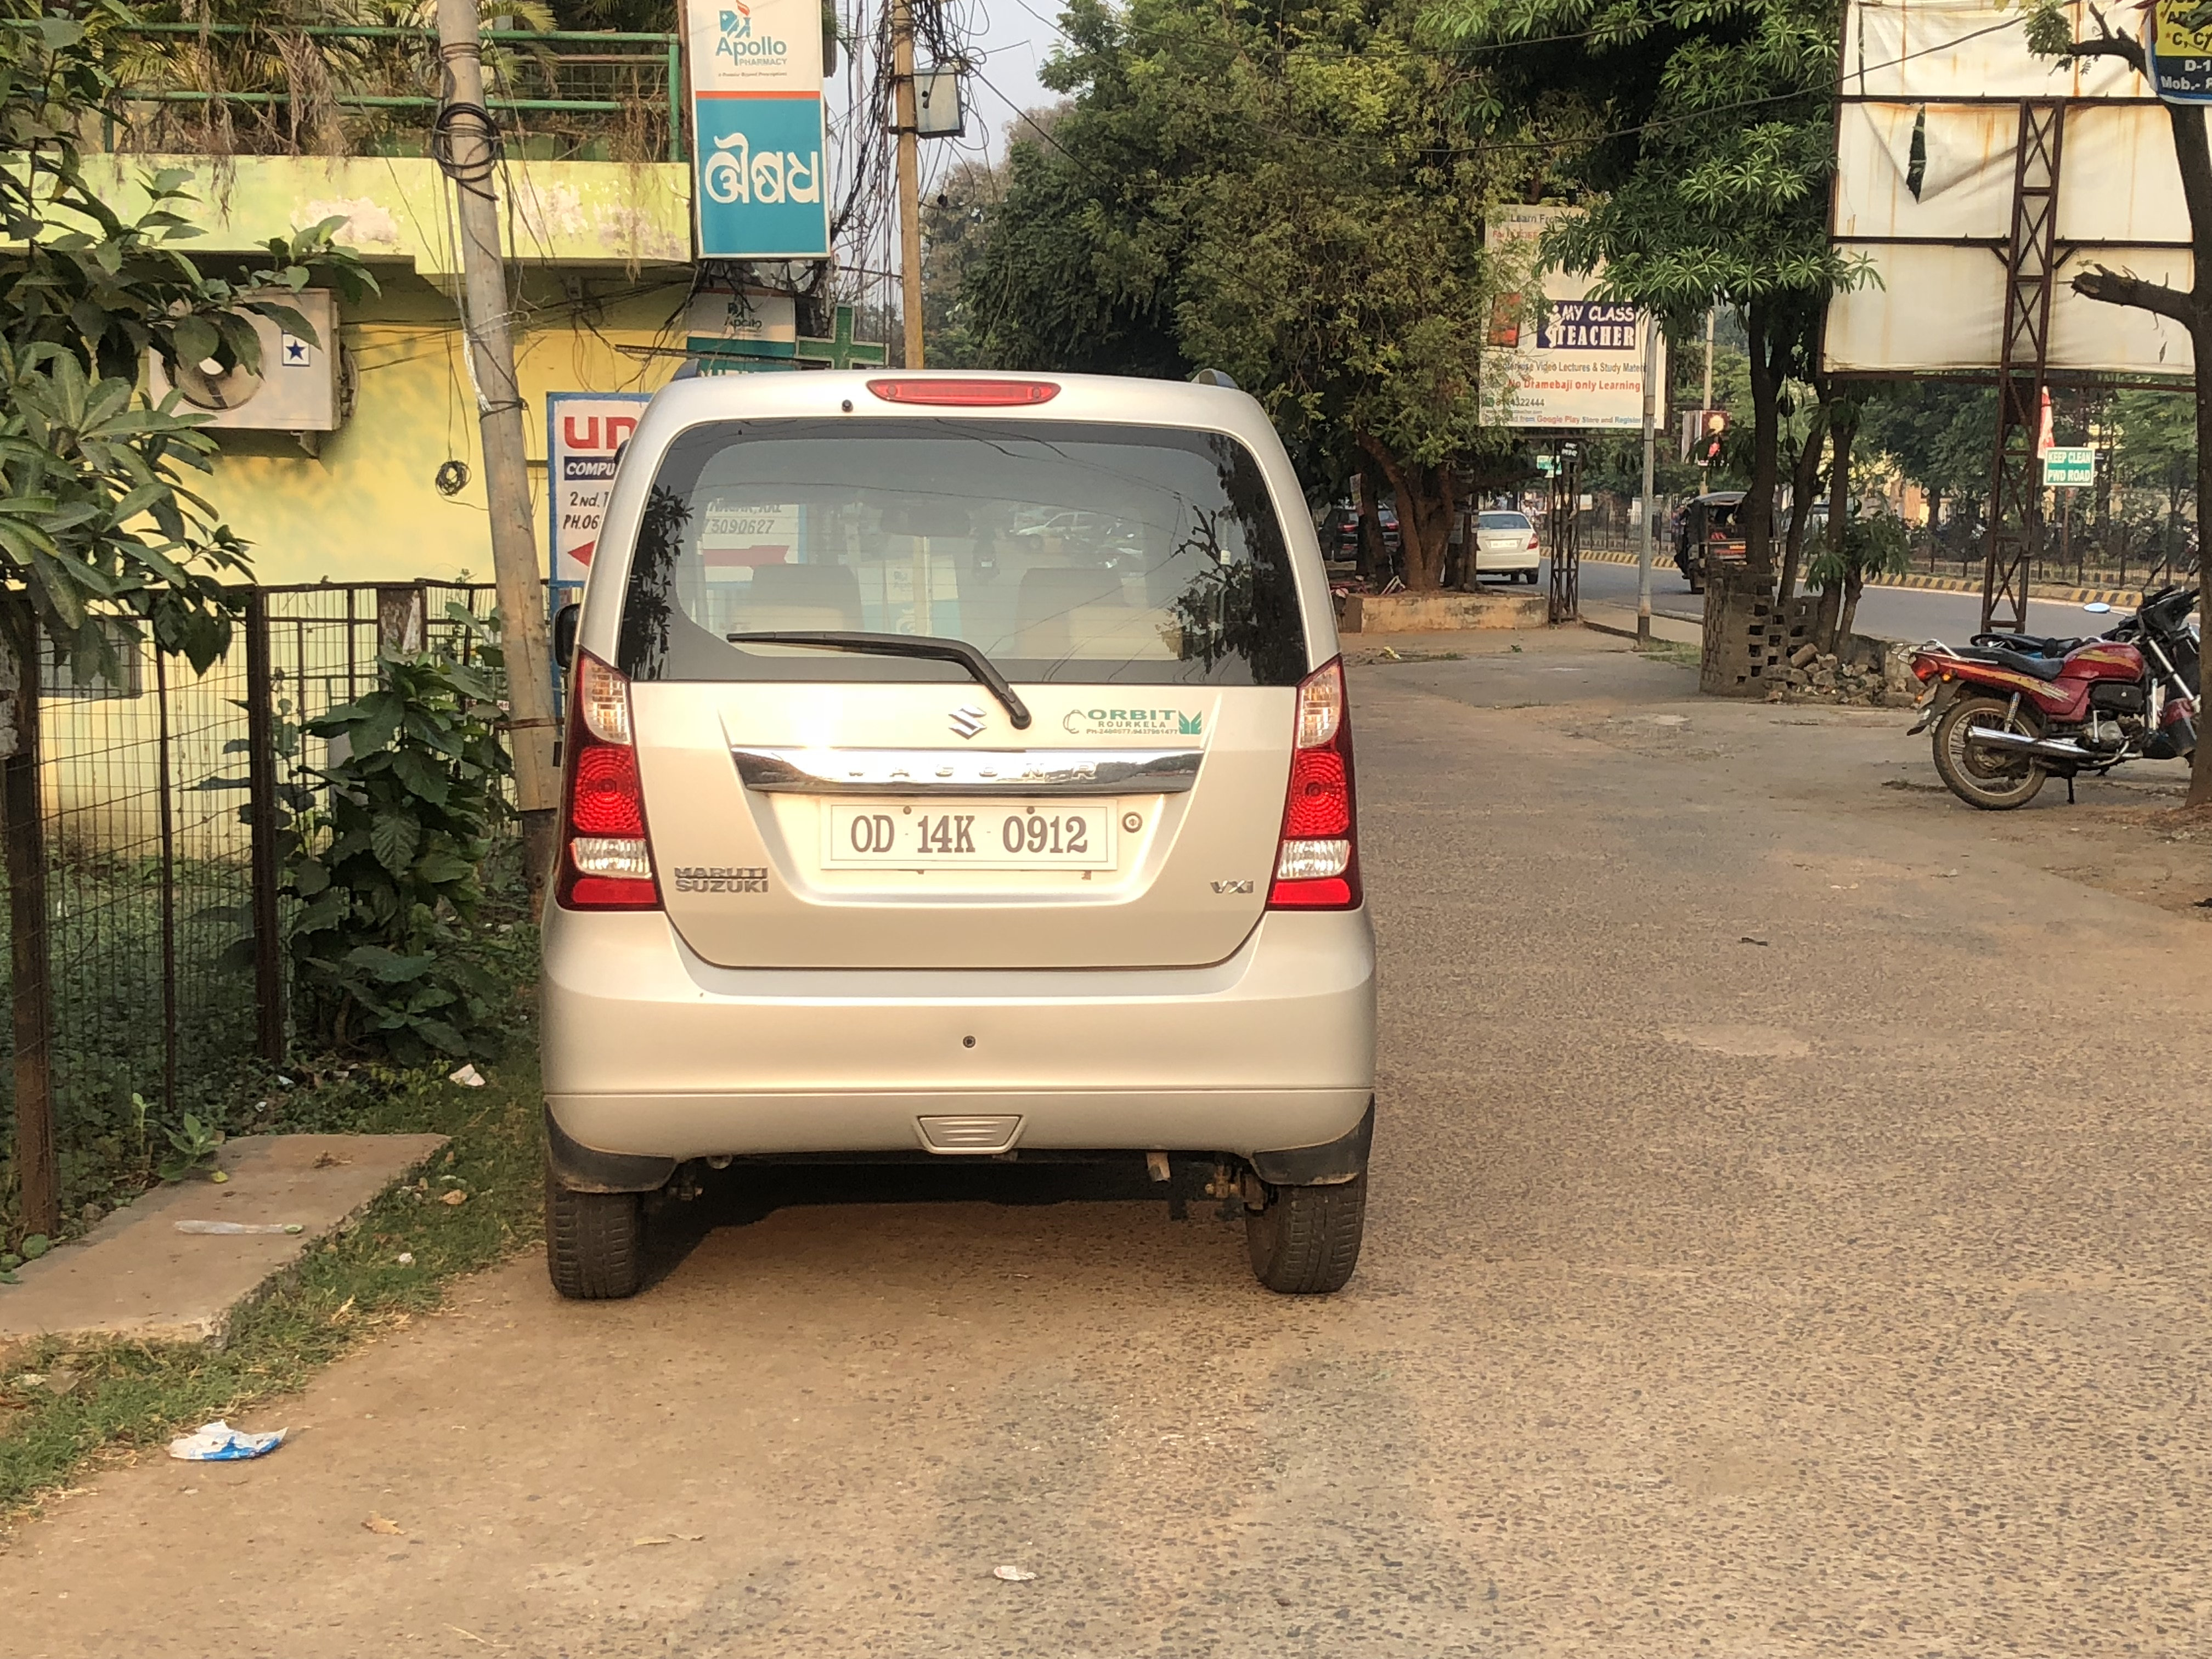licenseplate: (808, 792, 1132, 889)
